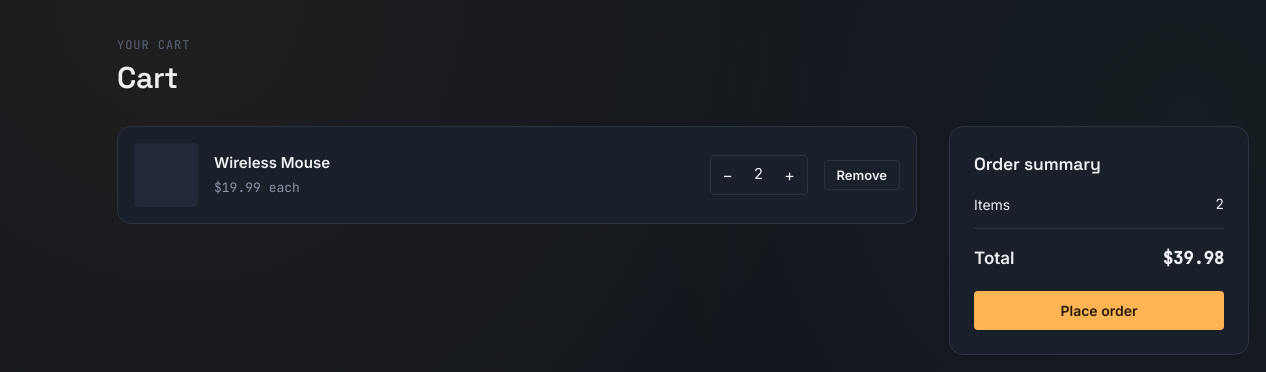
Test: CartPage › removing an item clears it from the list
The width and height of the screenshot is (1266, 372).
Expected: the text "Wireless Mouse" is shown, [214,153,330,172]
Click the button "Remove" at [862, 175], box [824,160,900,190]
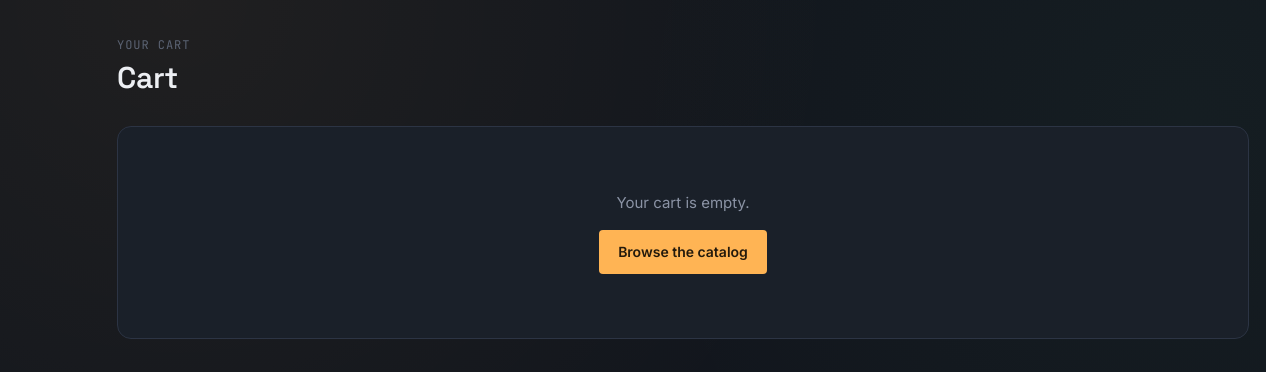
Expected: the text "Wireless Mouse" is gone
Expected: the text "Your cart is empty." is shown, [616,193,750,212]
